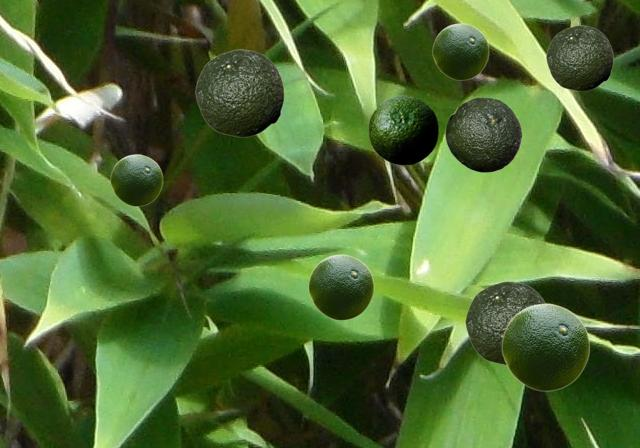calamansi: (195, 49, 283, 136), (501, 303, 589, 390), (465, 281, 545, 364), (445, 97, 521, 171), (368, 95, 437, 164), (546, 25, 612, 90), (308, 254, 373, 319), (432, 23, 488, 79), (110, 154, 162, 205)
